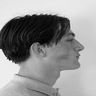ear: (27, 36, 52, 61)
